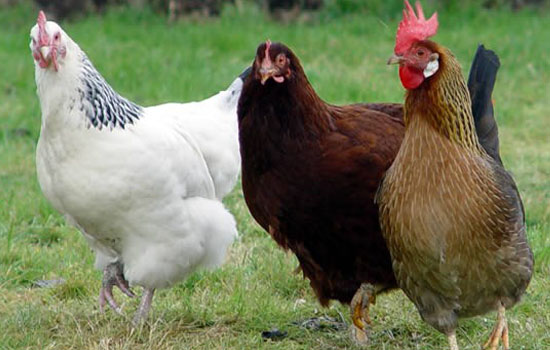Healthy: (376, 1, 480, 113), (226, 29, 331, 131), (15, 3, 103, 98)
